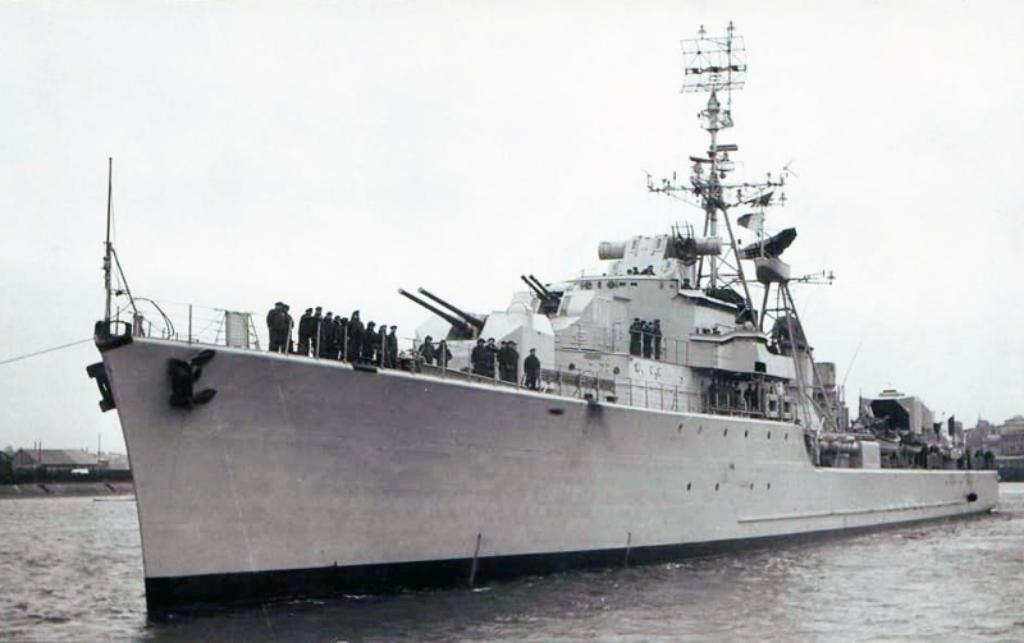Warship: (94, 18, 1010, 626)
